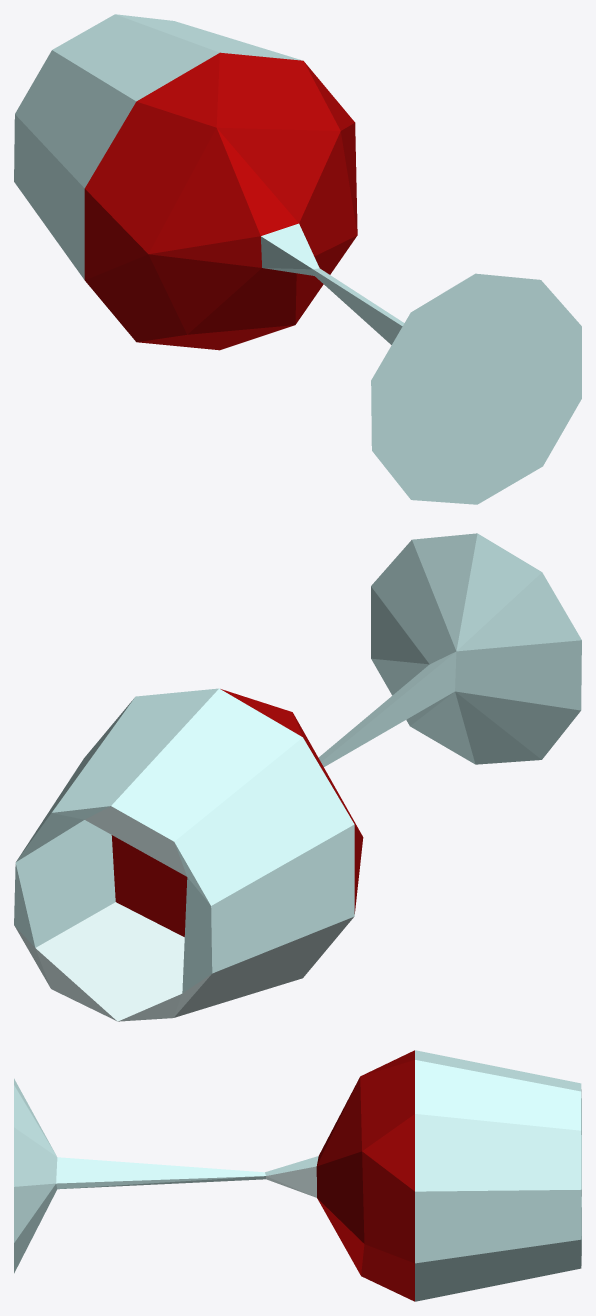
File: grass_2.fbx
3 renders of one model, top to bottom at view 1: azimuth 30°, elevation 25°; view 2: azimuth 150°, elevation 25°; view 3: azimuth 270°, elevation 25°, orthographic. The views are drawn at different scales.
Visible parts, largest first — view 1: grass_2; view 2: grass_2; view 3: grass_2.
Boxes of the visible parts, box(x1,y1,x2,y2) form: grass_2: box(14, 14, 581, 504); grass_2: box(14, 533, 581, 1021); grass_2: box(14, 1050, 581, 1301).
Bounding box in the file's own units: 39.61 × 41.65 × 92.27.
